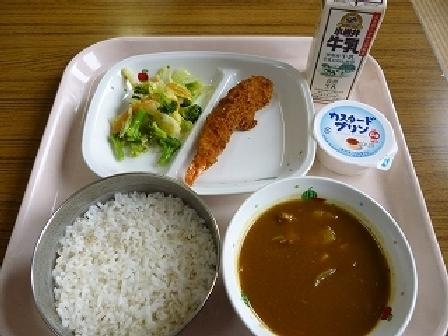Cup desserts: (311, 97, 402, 173)
Curry: (236, 181, 410, 334)
Milk: (301, 0, 393, 103)
Rice: (31, 176, 222, 331)
Salad: (102, 61, 193, 153)
seafood: (188, 67, 288, 186)
